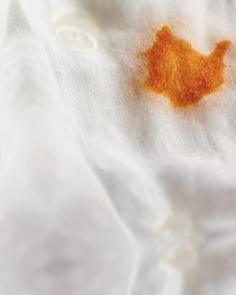stain: (132, 24, 233, 117)
